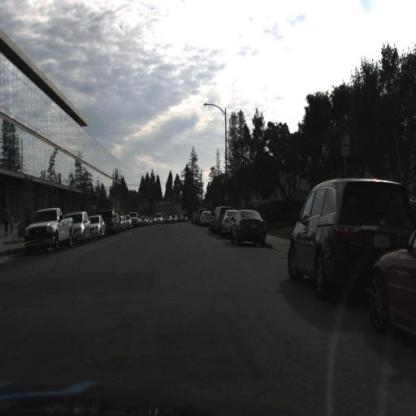car: (288, 179, 410, 306), (372, 227, 416, 340), (24, 208, 74, 261), (231, 206, 267, 250), (71, 209, 92, 250), (104, 208, 120, 239), (90, 214, 106, 241), (154, 211, 165, 227)
pedestrian: (3, 206, 11, 237), (10, 214, 16, 234)
